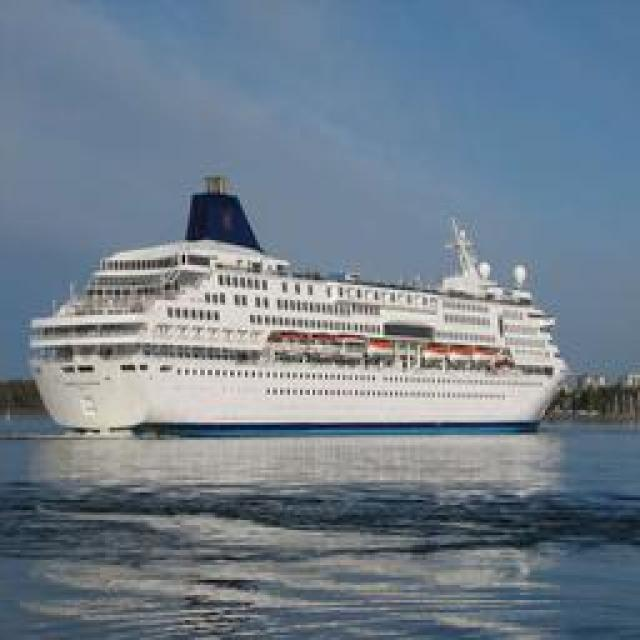CIV_Ship: (30, 174, 568, 436)
